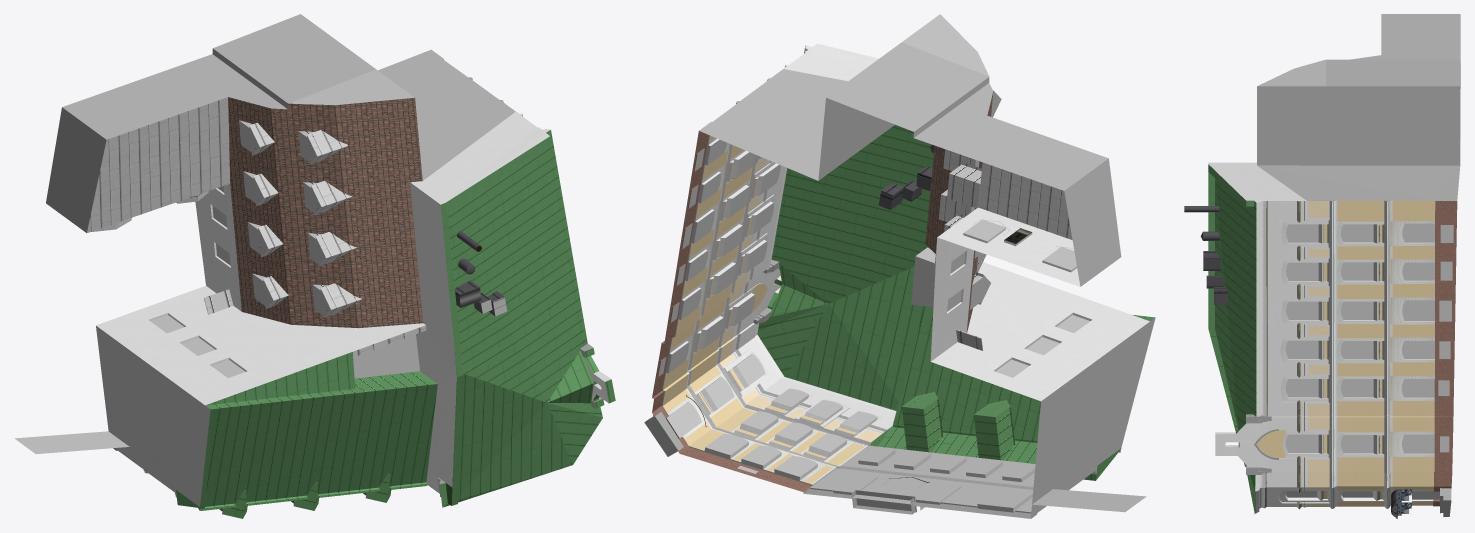
The model's file is Nunne_12.obj.
3 views of the same model, side by side, from view 1: azimuth 30°, elevation 25°; view 2: azimuth 150°, elevation 25°; view 3: azimuth 270°, elevation 25° (orthographic). The views are drawn at different scales.
Parts seen in each view (by area): view 1: Nunne_12; view 2: Nunne_12; view 3: Nunne_12.
Part boxes in pixels (bbox=[...]): Nunne_12: bbox=[14, 14, 615, 518]; Nunne_12: bbox=[644, 14, 1155, 518]; Nunne_12: bbox=[1184, 14, 1460, 518].
Size of the model in its own units: 31.23 by 26.23 by 17.47.
